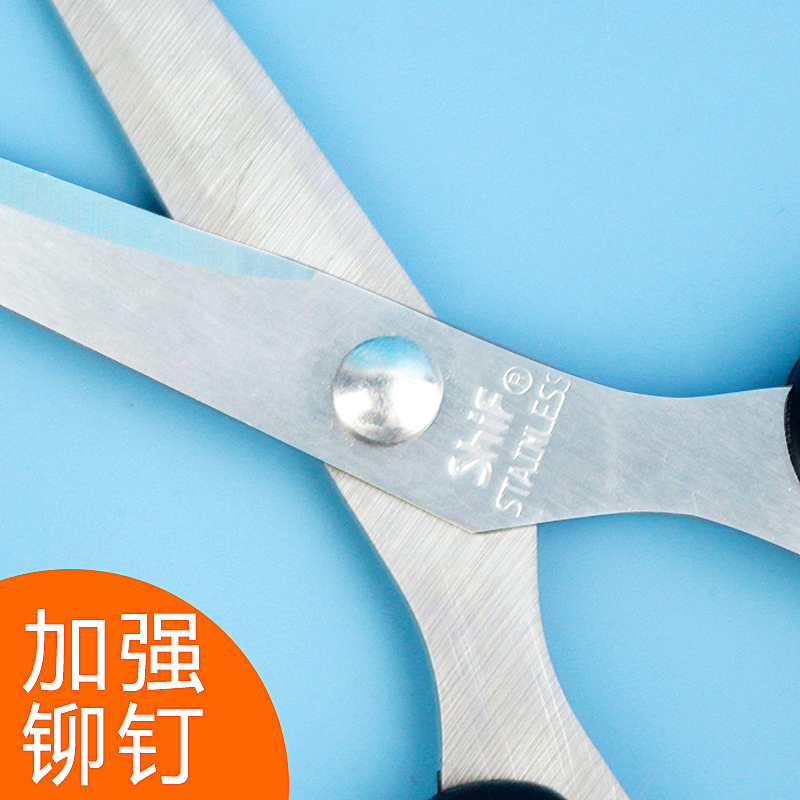scissors: (1, 7, 795, 792)
